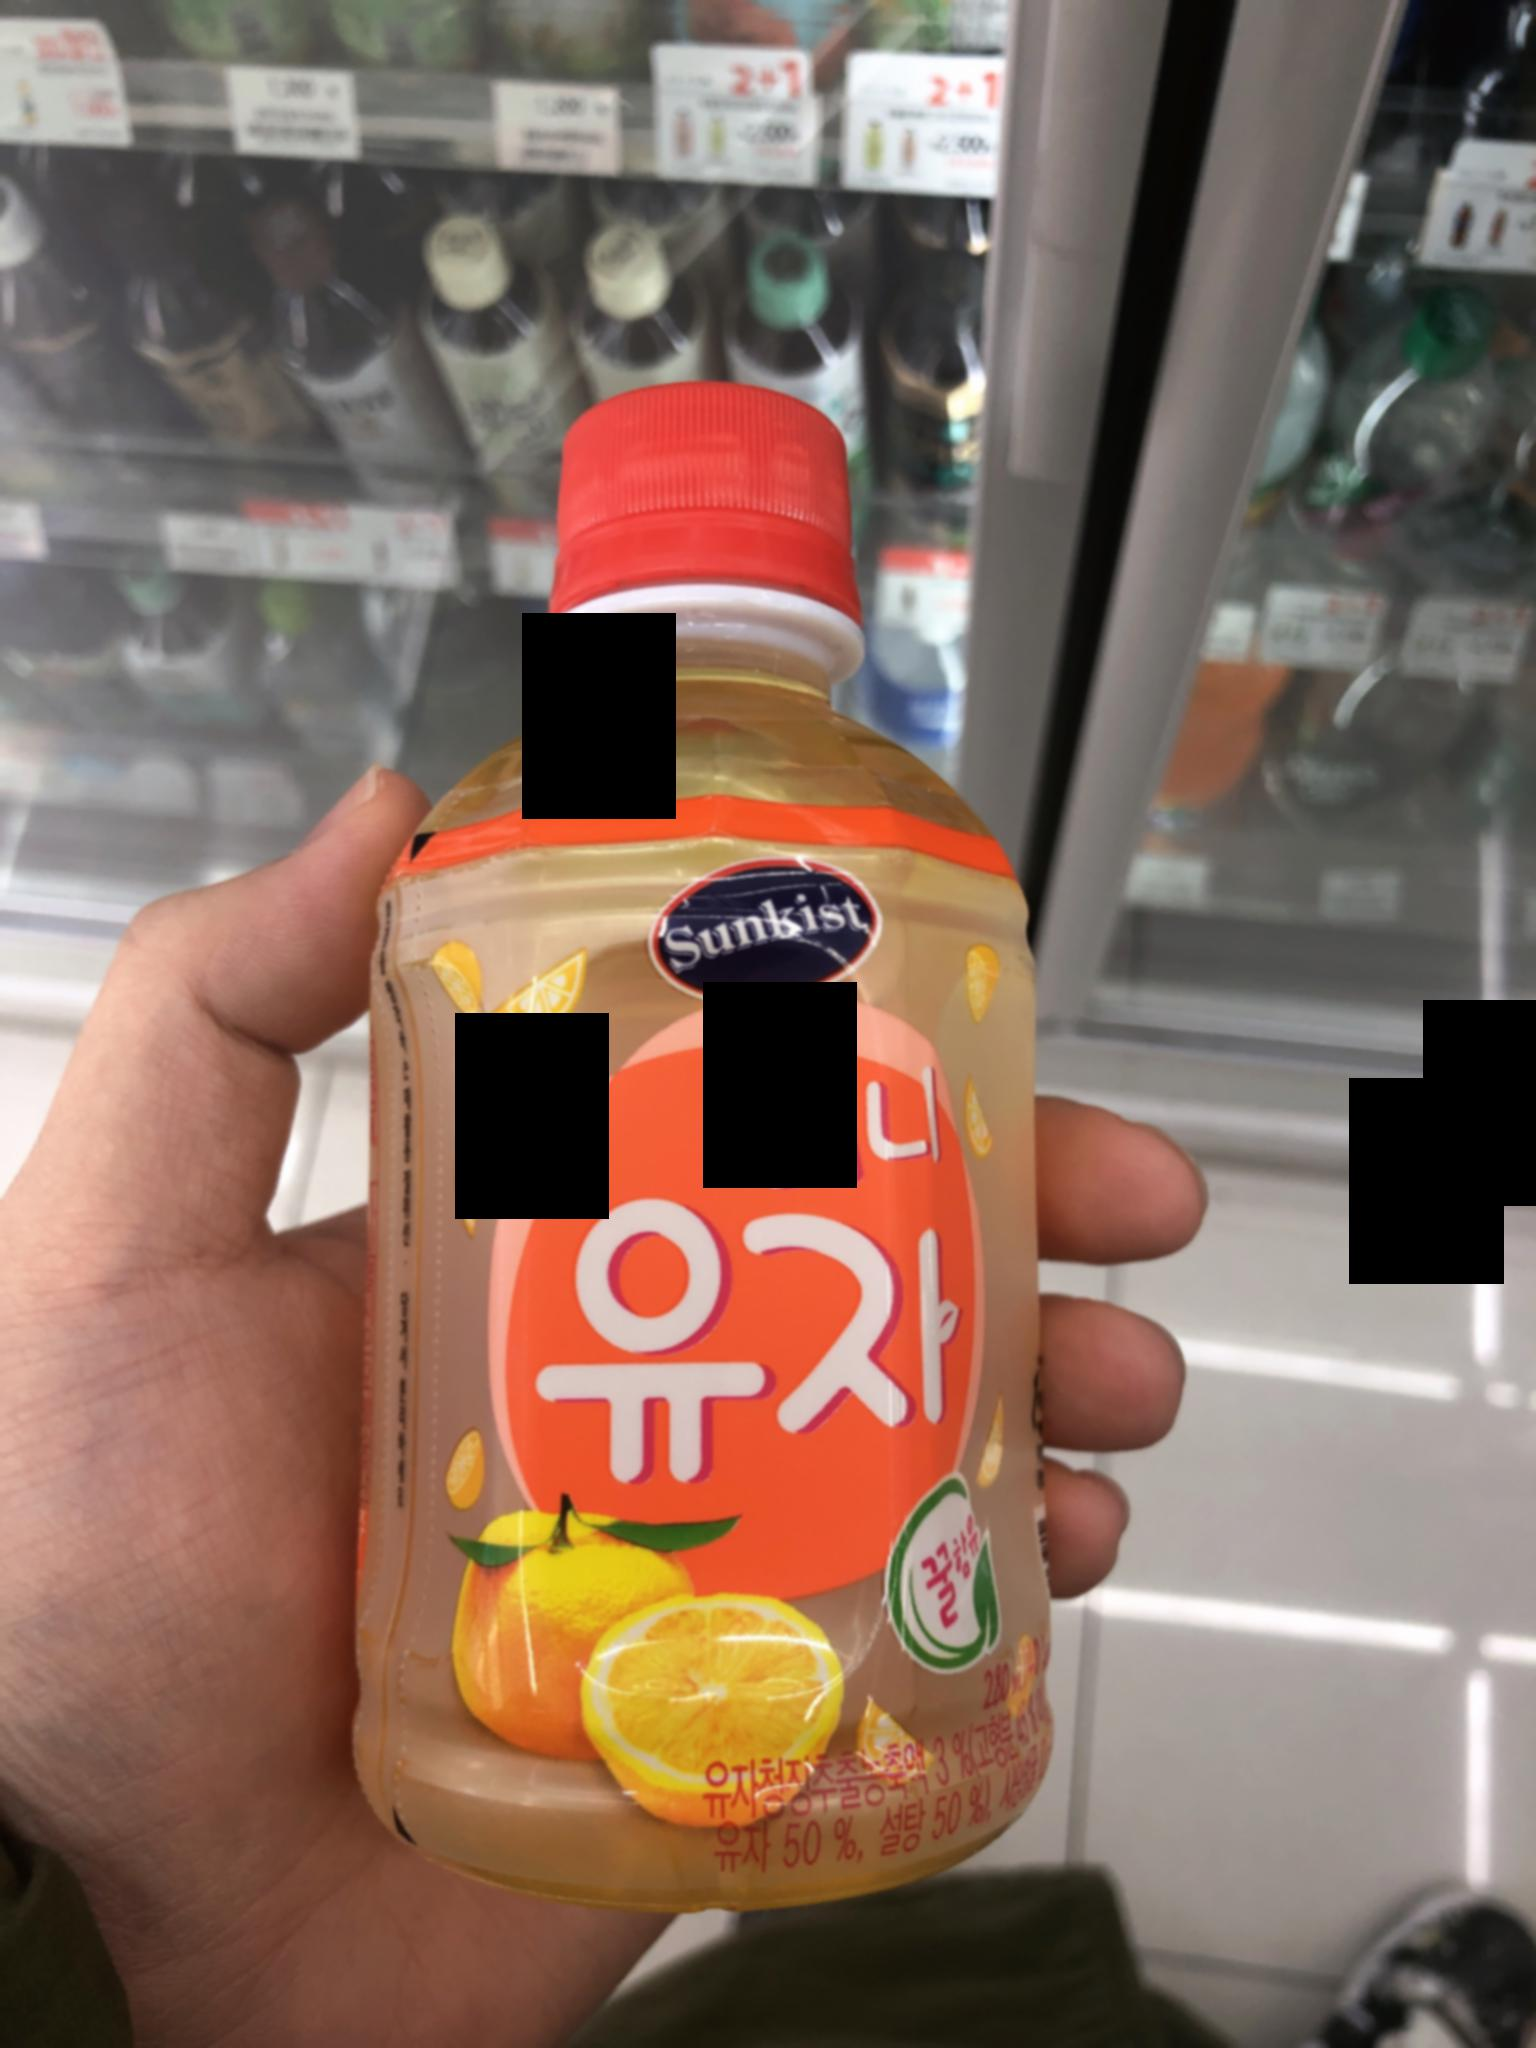honeyyuja: (245, 327, 1154, 1935)
